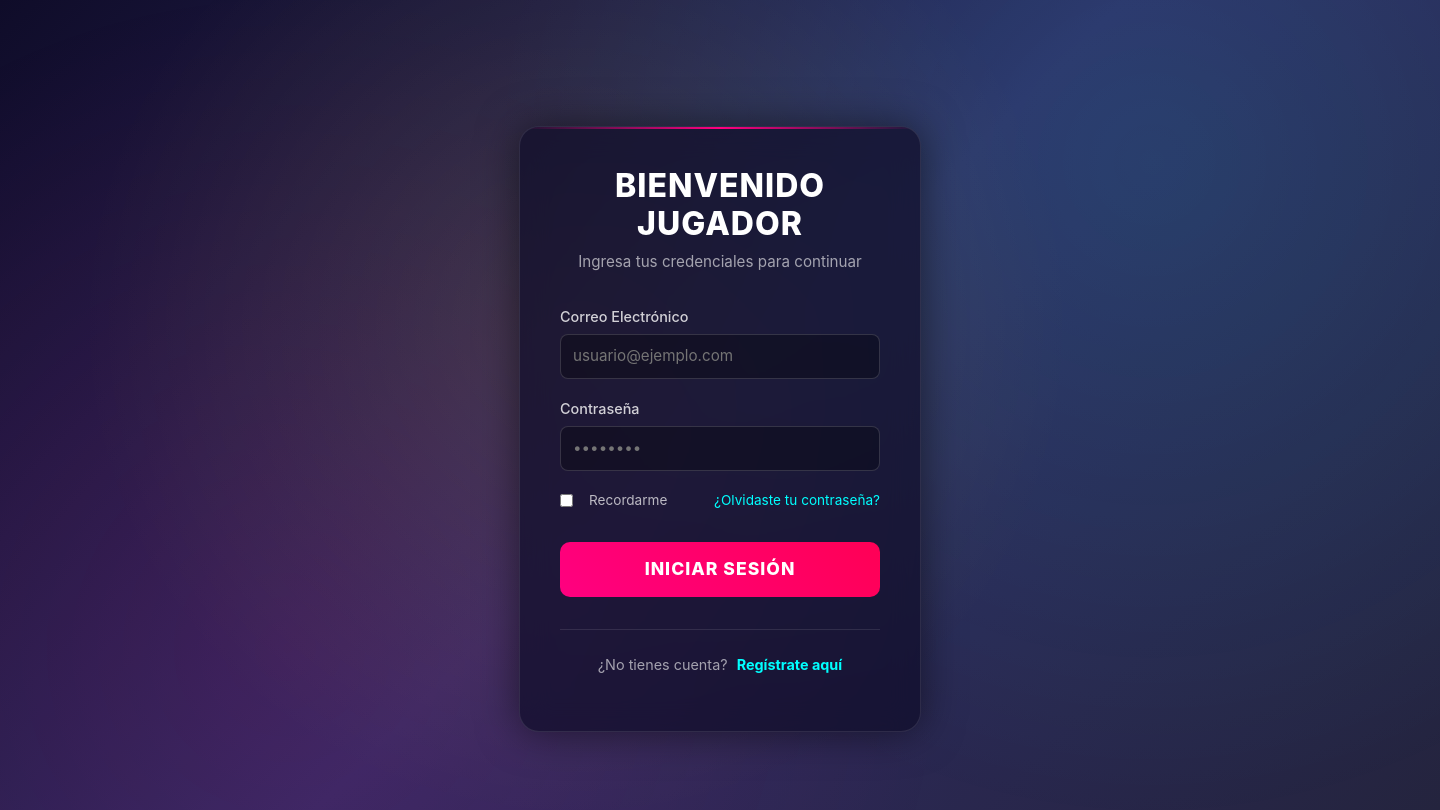
it: Pruebas del Componente InicioSesion › Debe manejar error de conexión (Error Genérico)
Step 1. Click the button "INICIAR SESIÓN" → {"x": 720, "y": 570}, box [560, 542, 880, 597]
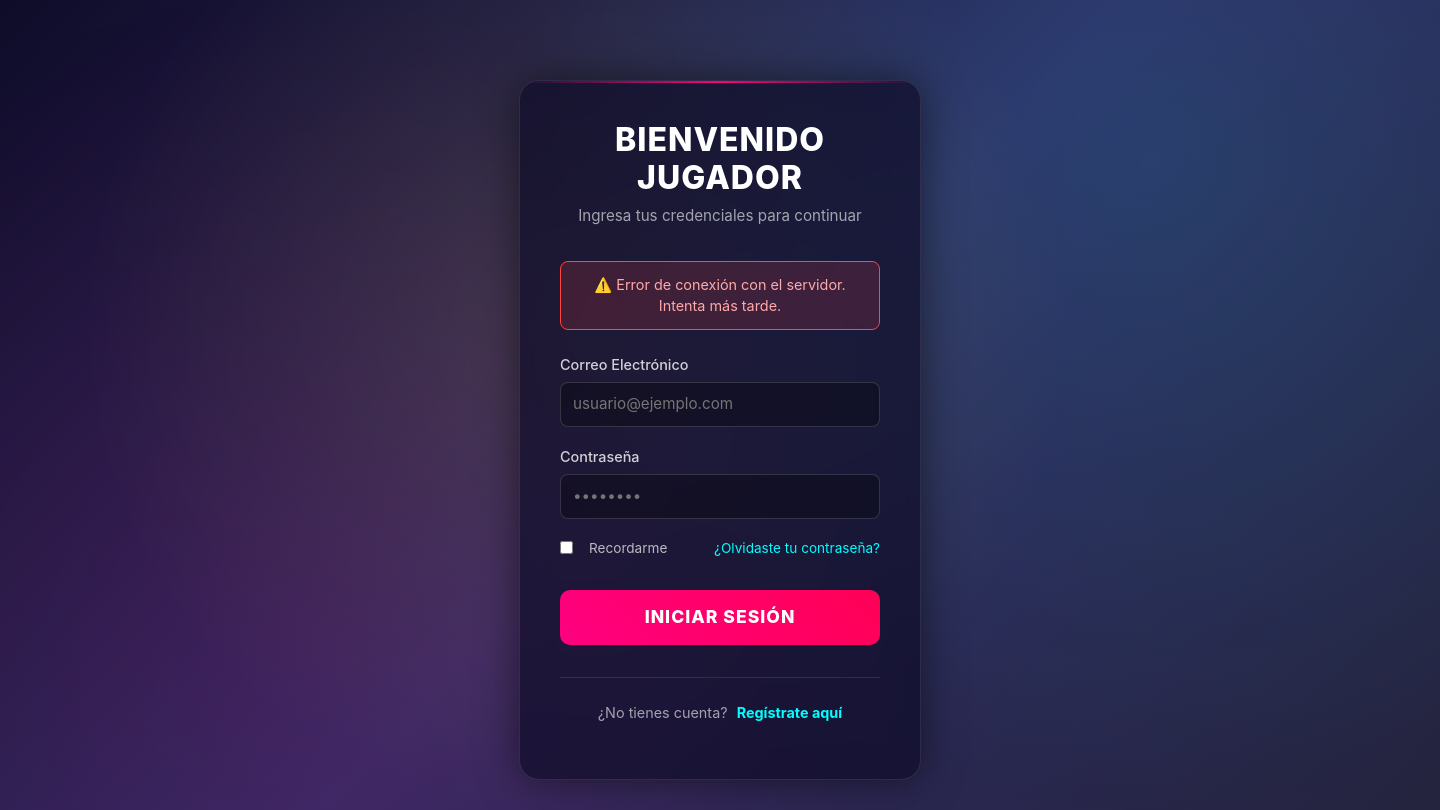
Check: the text "⚠️ Error de conexión con el servidor. Intenta más tarde." is shown, box [560, 261, 880, 330]
